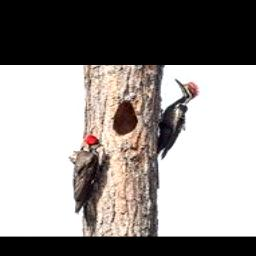Woodpecker: (157, 77, 200, 159), (72, 135, 105, 236)
